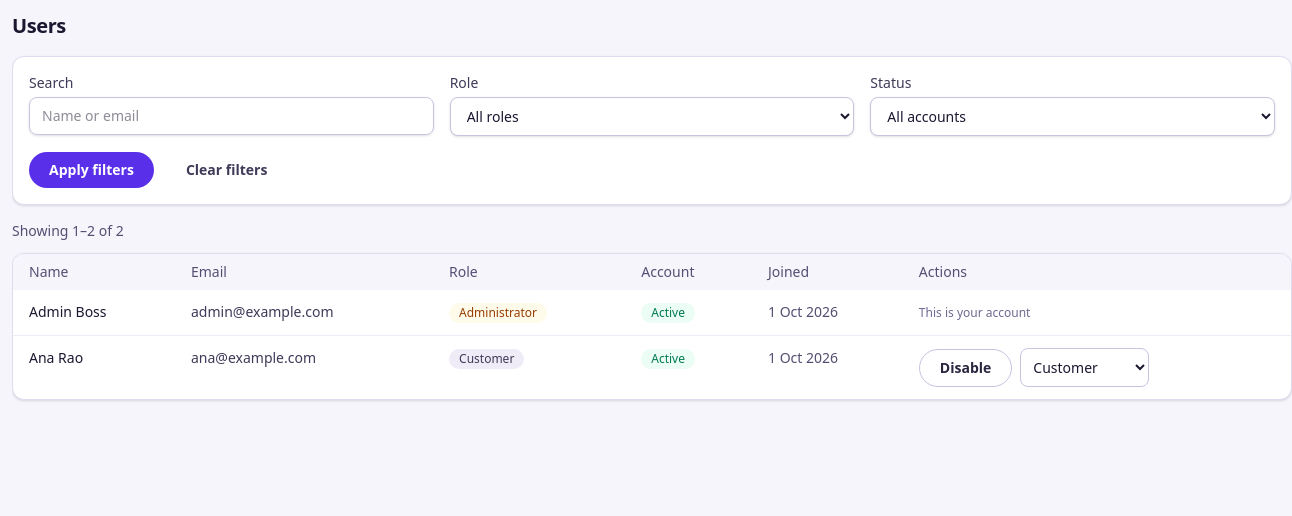
Test: AdminUsersPage › lets the admin back out of disabling
Click the button with aria-label "Disable Ana Rao" at (966, 368), box [919,348,1012,386]
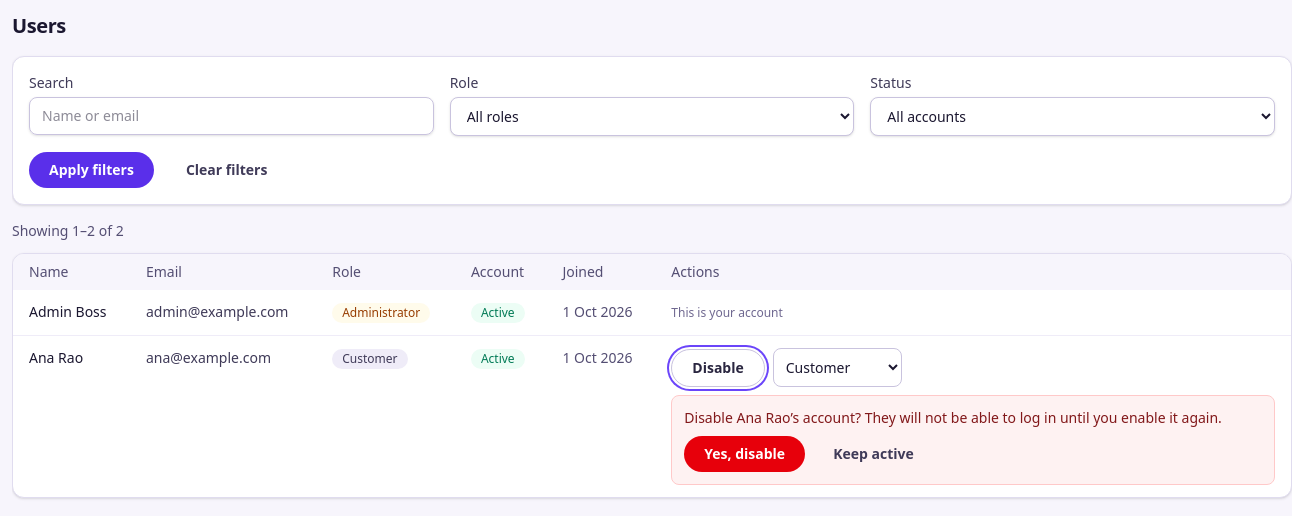
Click the button "Keep active" at (874, 454), box [813,436,934,472]
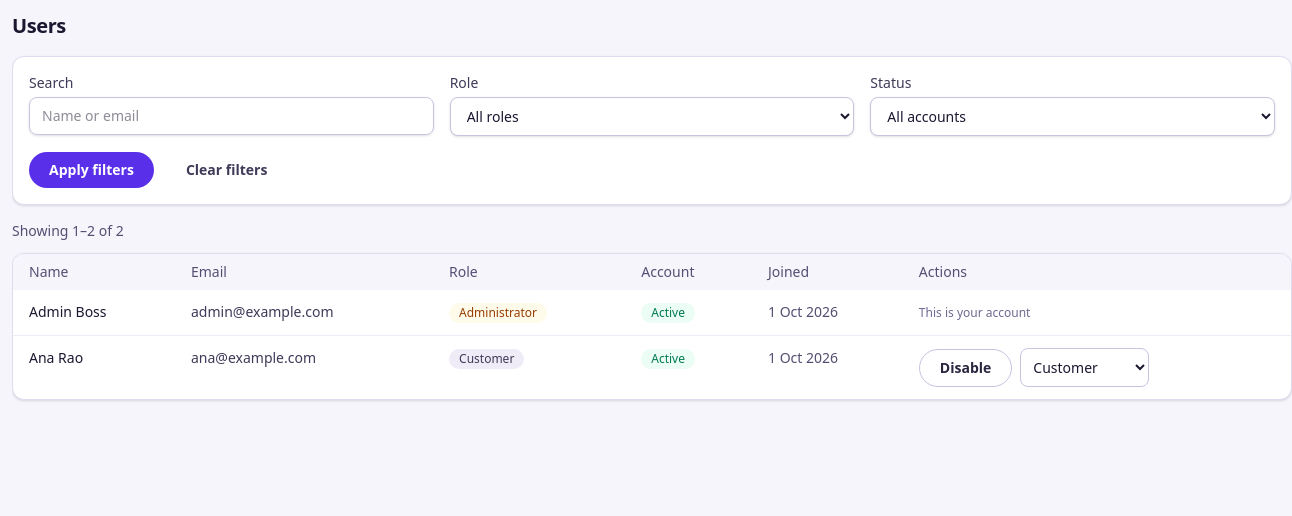
Now the text "will not be able to log in" is gone
